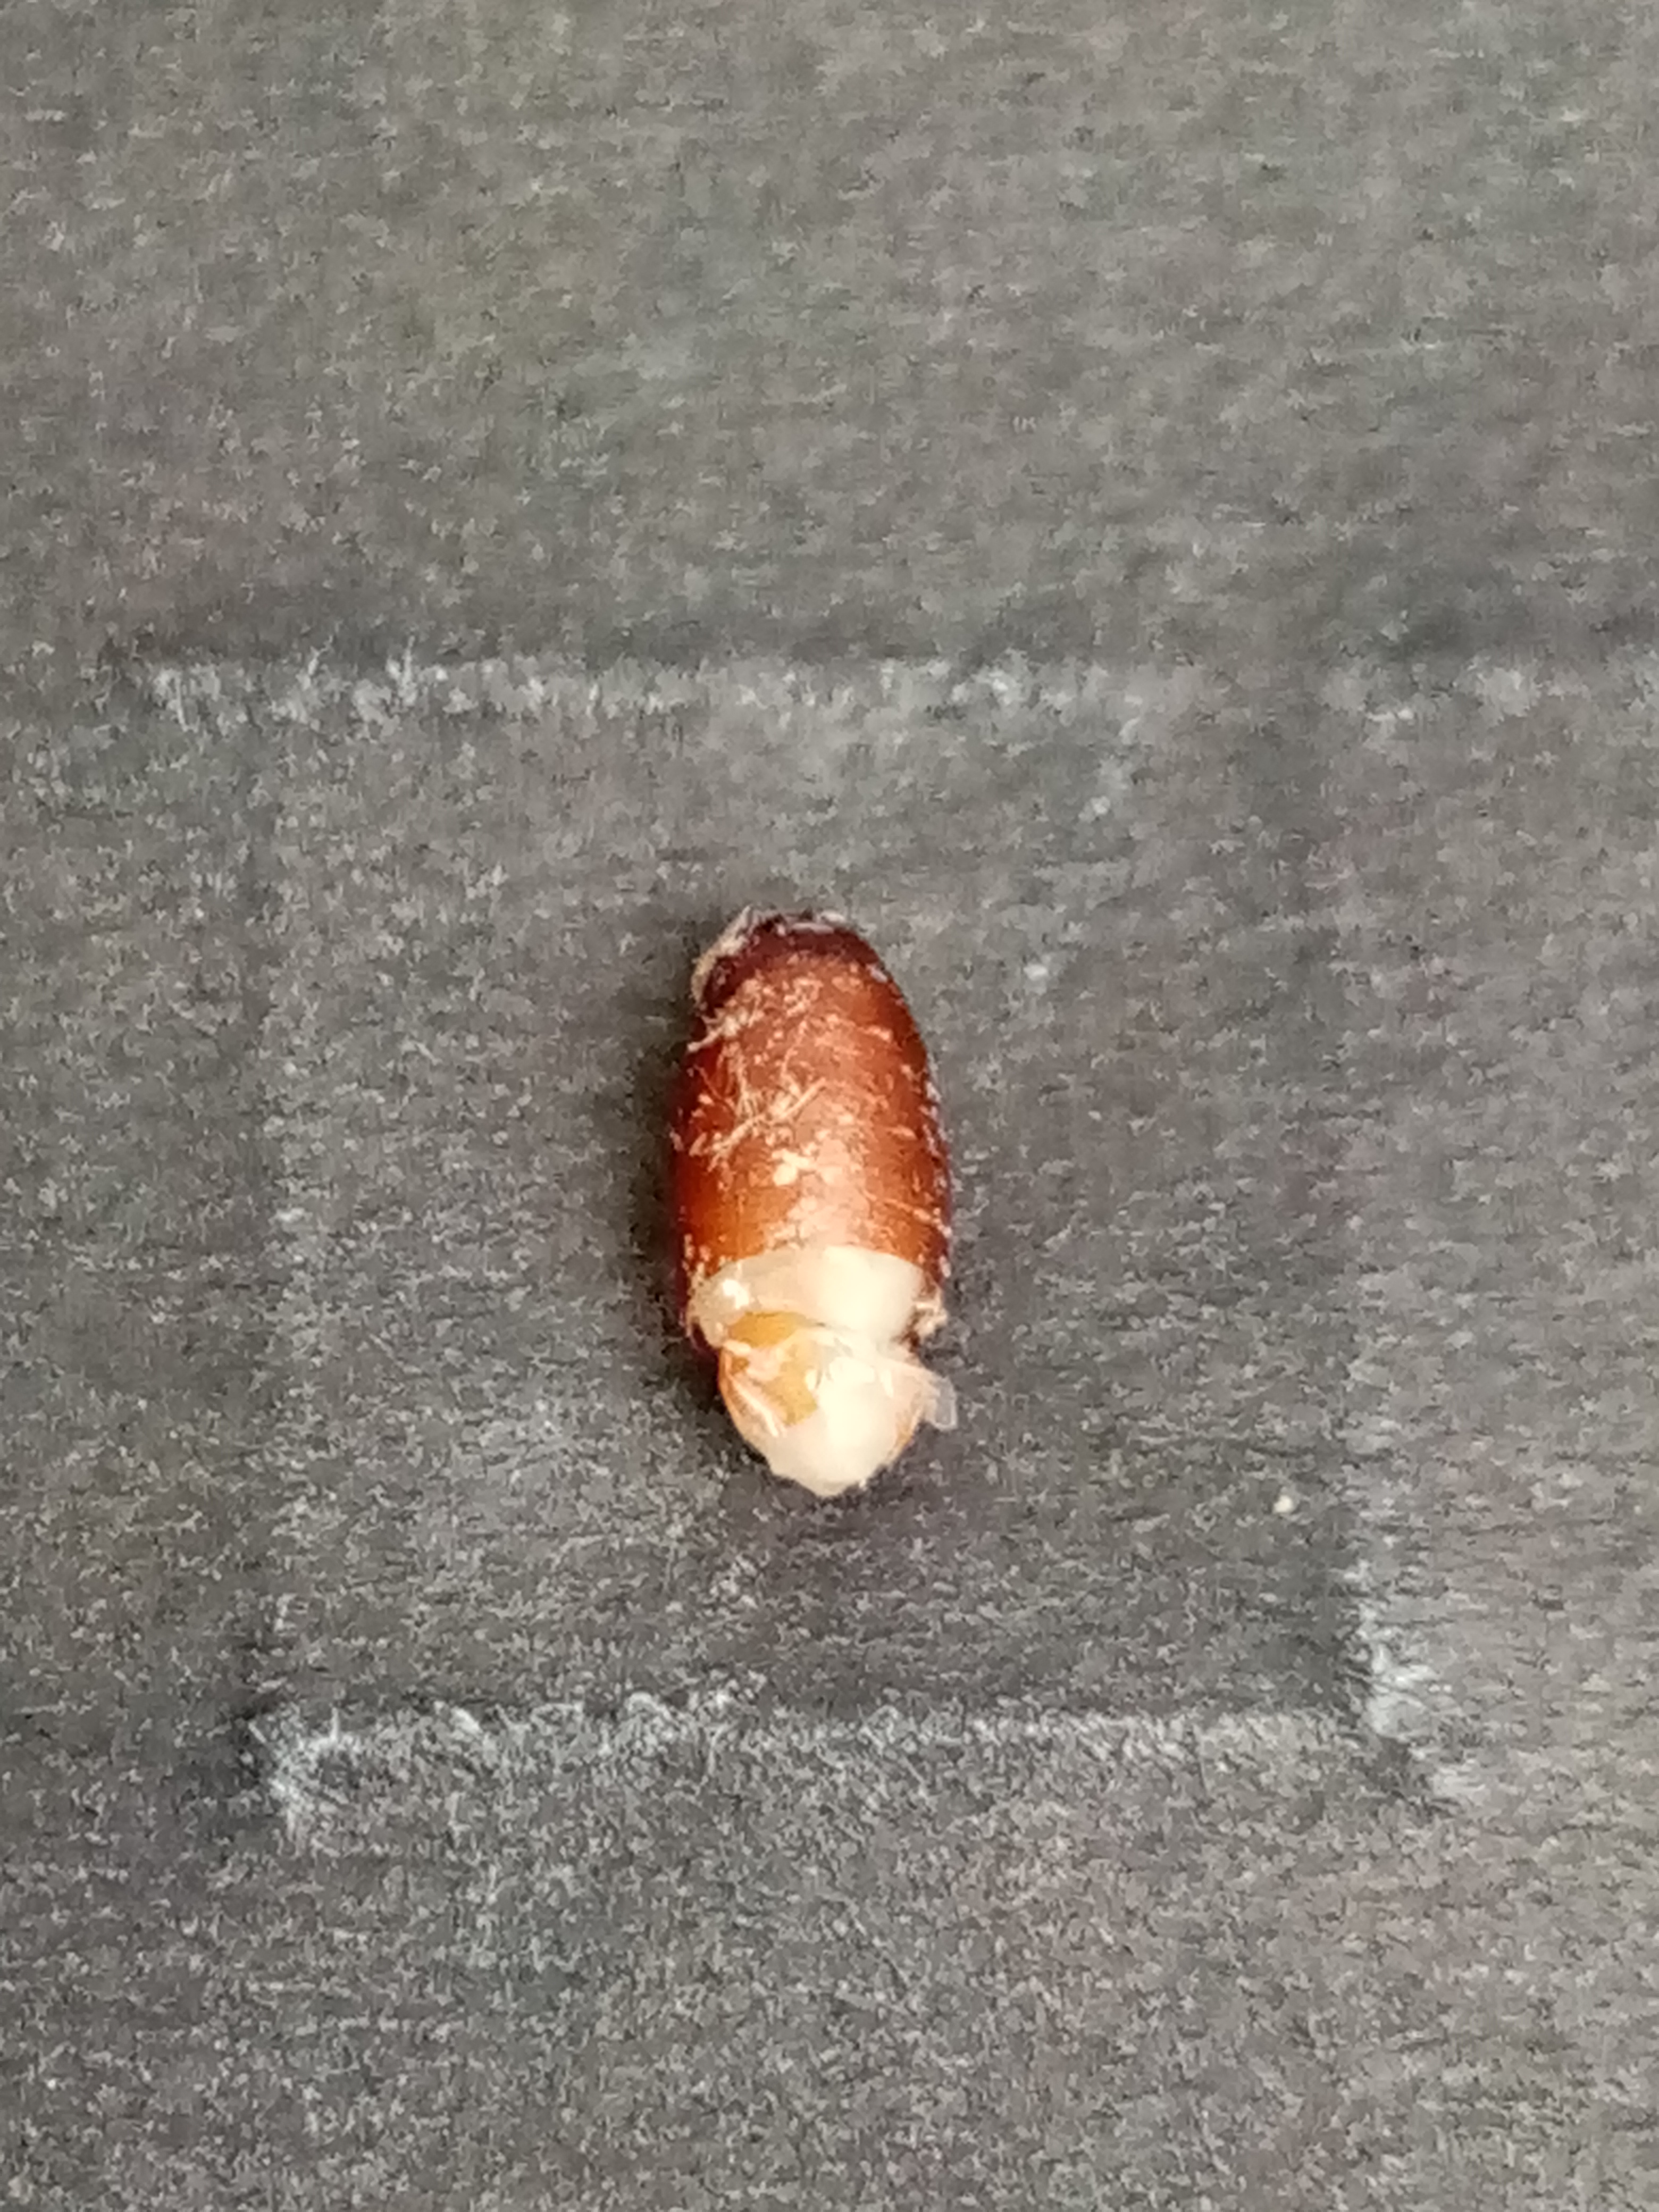pupa: (704, 1306, 946, 1500)
